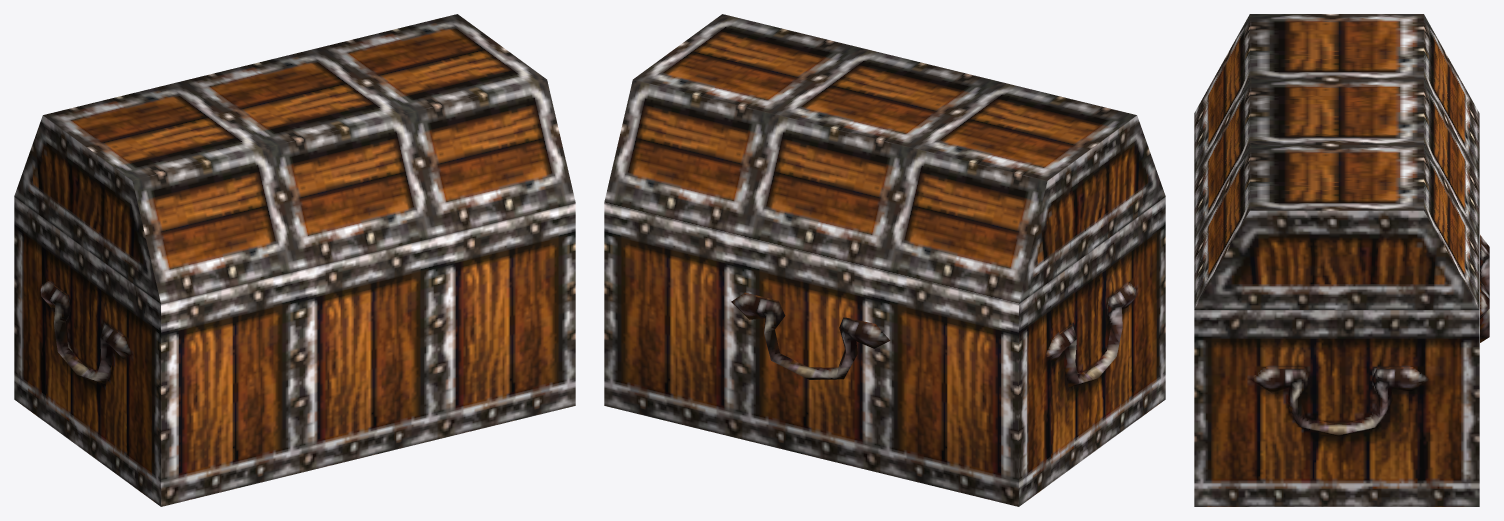
Rendered from INST_LT_CHEST.fbx.
3 views of the same model, side by side, from view 1: azimuth 30°, elevation 25°; view 2: azimuth 150°, elevation 25°; view 3: azimuth 270°, elevation 25° (orthographic). The views are drawn at different scales.
Parts seen in each view (by area): view 1: INST_LT_CHEST; view 2: INST_LT_CHEST; view 3: INST_LT_CHEST.
Boxes of the visible parts, x1=… form: INST_LT_CHEST: x1=14, y1=14, x2=575, y2=506; INST_LT_CHEST: x1=604, y1=14, x2=1165, y2=506; INST_LT_CHEST: x1=1194, y1=14, x2=1489, y2=506.
Size of the model in its own units: 7279 by 4903 by 4430.
Materials: 2 (2 with a texture image).
